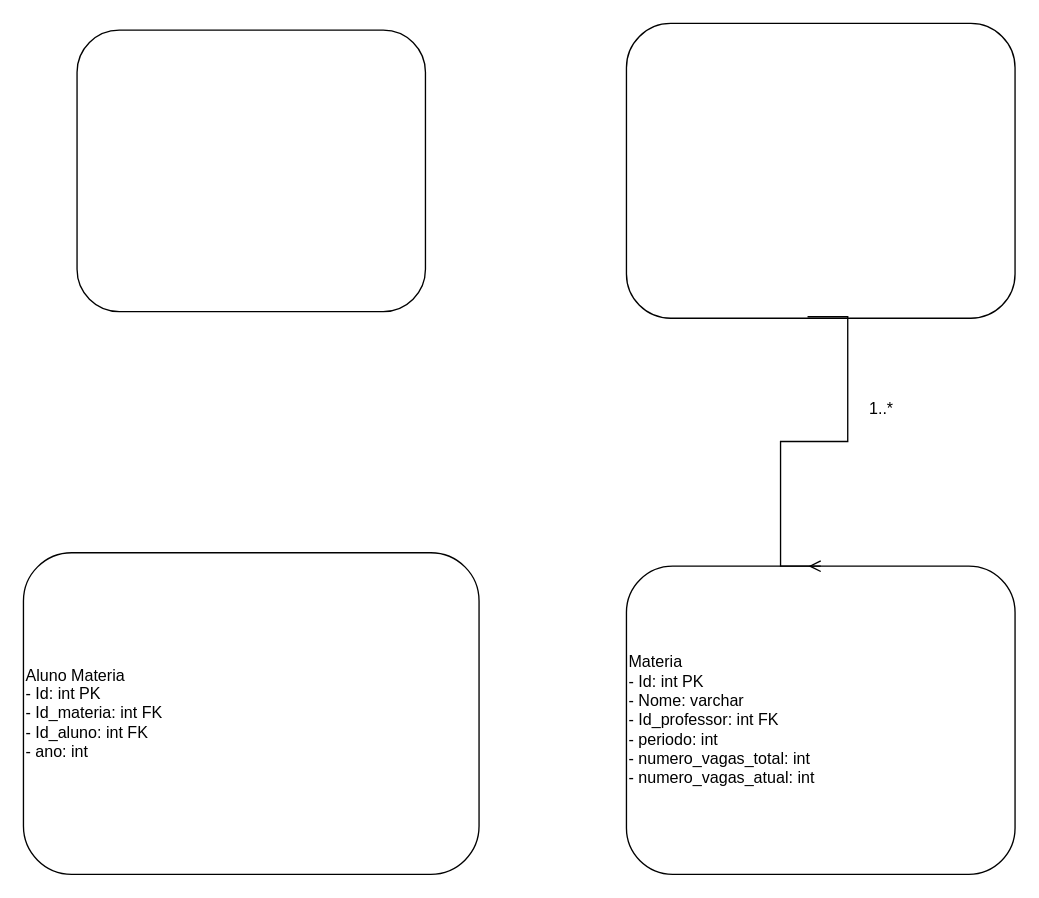
Some shapes in this 1039 by 898 pixel diagram are drawn without their labels. The shapes that lost their labels are listed below. From the top down, each one's box as (x1, y1, x2, y2) in pixels, then its label:
(76, 29, 425, 312): Aluno - Id: int PK - Nome: varchar - Idade: int
(625, 22, 1015, 318): Professor - Id: int PK - Nome: varchar - Idade: int
